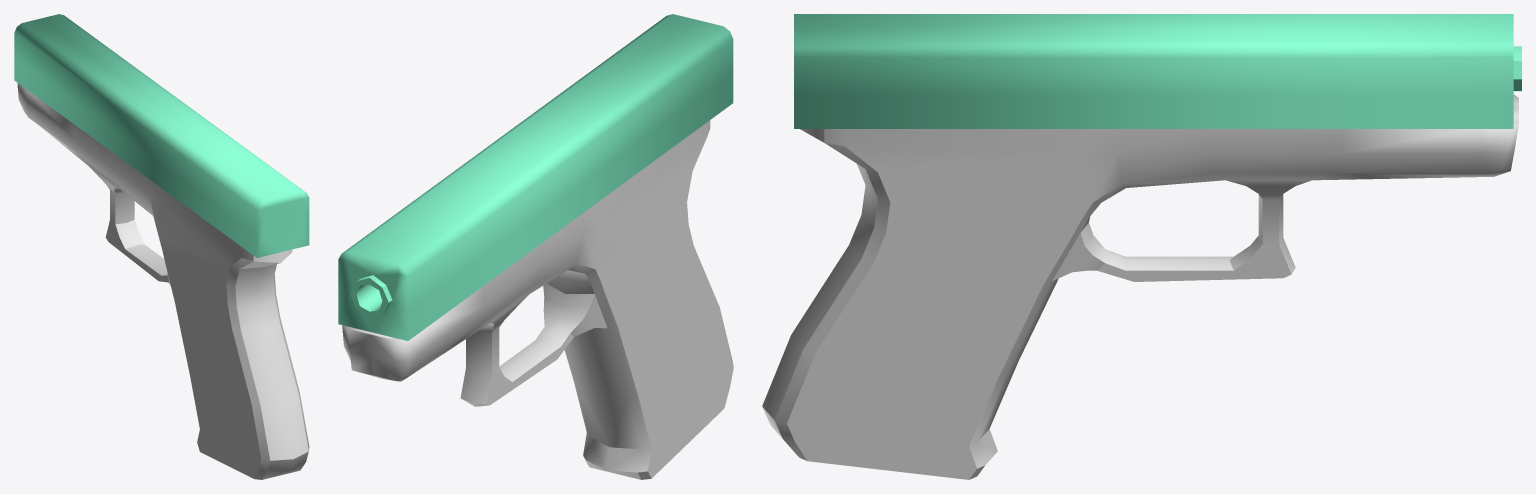
File: test_gun3.glb
3 views of the same model, side by side, from view 1: azimuth 30°, elevation 25°; view 2: azimuth 150°, elevation 25°; view 3: azimuth 270°, elevation 25° (orthographic). The views are drawn at different scales.
Visible parts, largest first — view 1: grip, slide; view 2: grip, slide; view 3: grip, slide.
Boxes of the visible parts, x1=… form: grip: x1=17, y1=83, x2=309, y2=479; slide: x1=14, y1=14, x2=309, y2=257; grip: x1=342, y1=120, x2=733, y2=479; slide: x1=338, y1=14, x2=733, y2=340; grip: x1=762, y1=95, x2=1518, y2=479; slide: x1=794, y1=14, x2=1521, y2=128.
Bounding box in the file's own units: 0.0216 × 0.116 × 0.1837.
